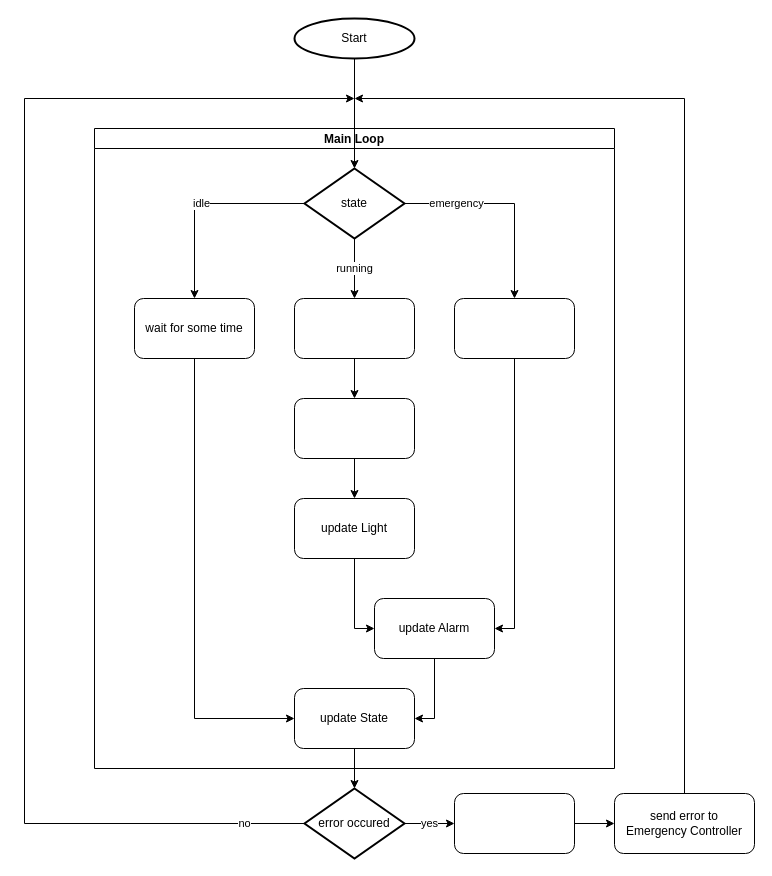
This 772x876 diagram has some shape labels left out. Each missing label, with the box of its shape:
enter emergency state: (454, 792, 574, 854)
Get user Input: (294, 298, 414, 358)
update Emergency Controller: (454, 298, 574, 358)
update Program Control: (294, 398, 414, 458)
